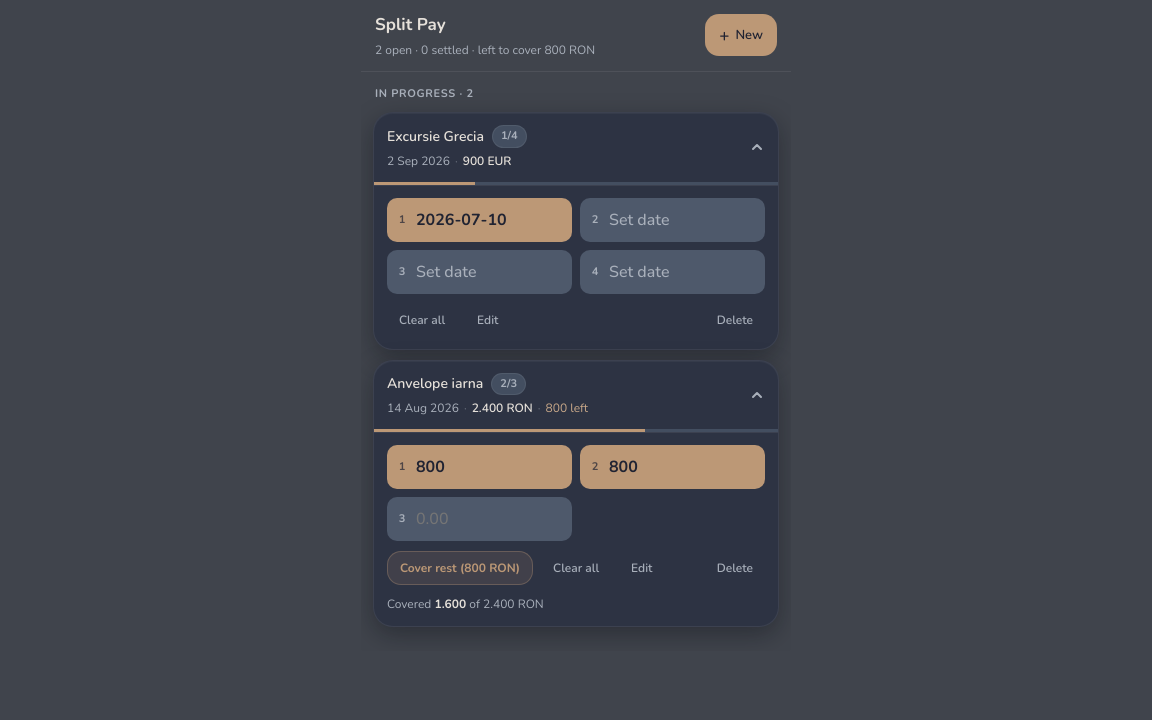
Scenario: settling the last slot › asks first, and holds the save
expect the text "Anvelope iarna" is shown: met, box 387,373 -> 483,394
Type "800" into the number field named "Anvelope iarna — installment 3" at (492, 519), box 416,501 -> 567,537
Wait 2800 ms
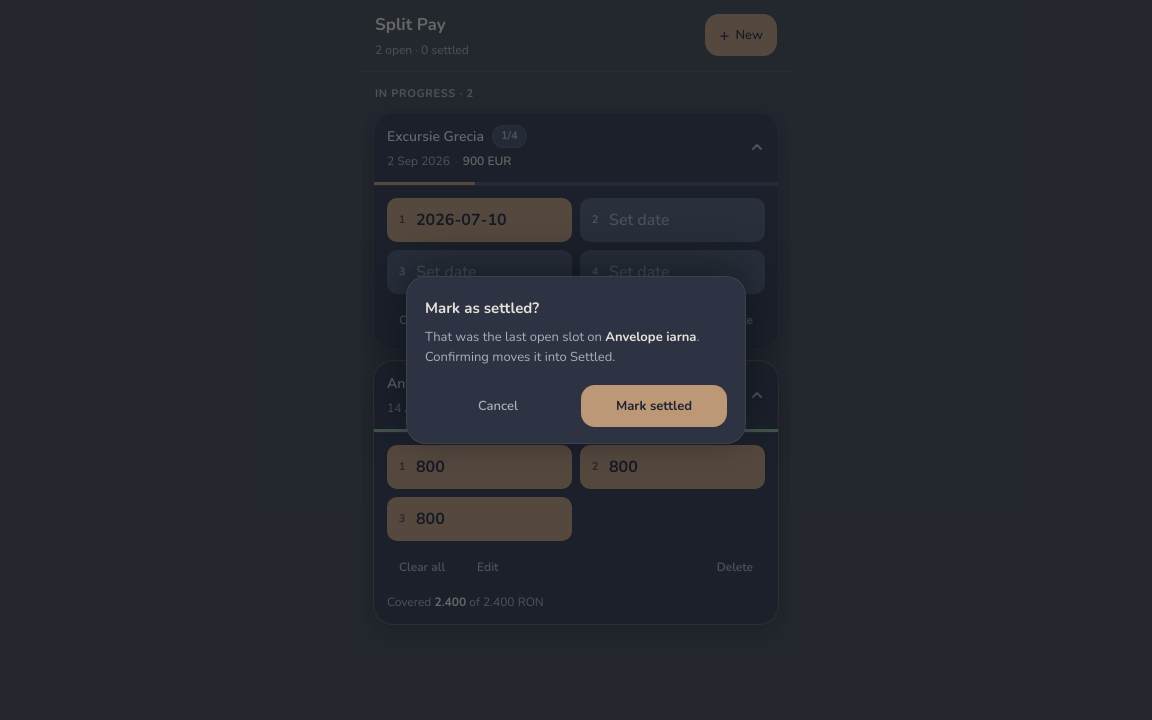
expect the text "Mark as settled?" is shown: met, box 425,298 -> 539,318
